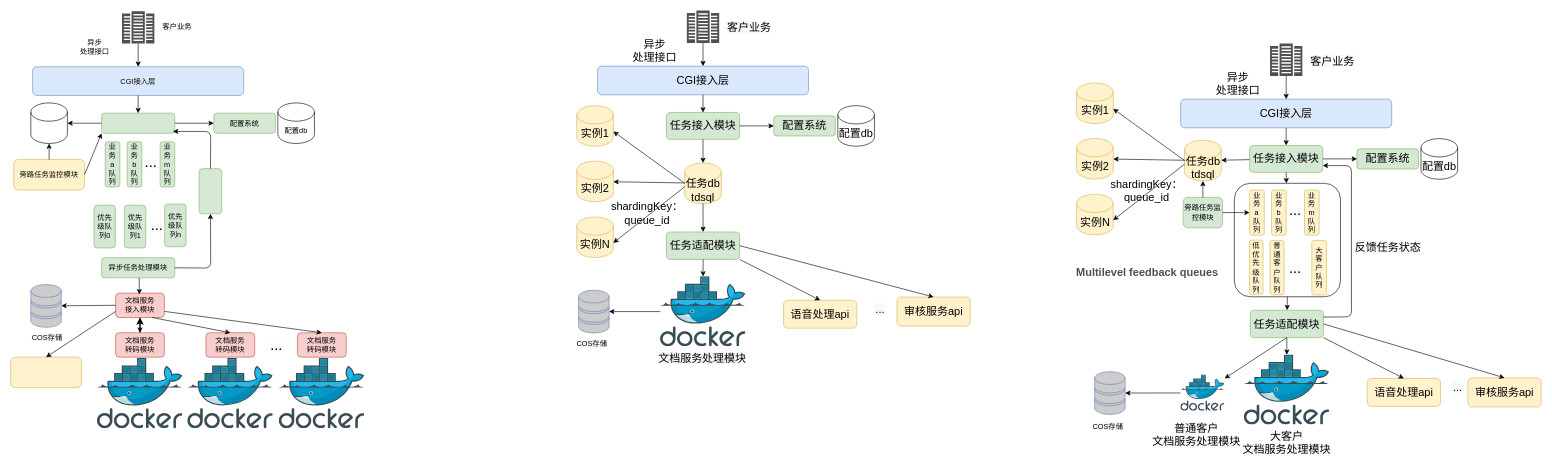
Some shapes in this 1552 by 467 pixel diagram are drawn without their labels. Here are the shapes that lost their labels. From the top down, the centre of each, then its label:
the point at 48,122: 任务db
the point at 138,123: 任务管理
the point at 210,191: kafka
the point at 45,372: 图片处理模块
